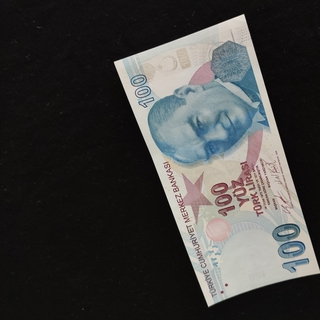100TLFront: (113, 13, 320, 308)
